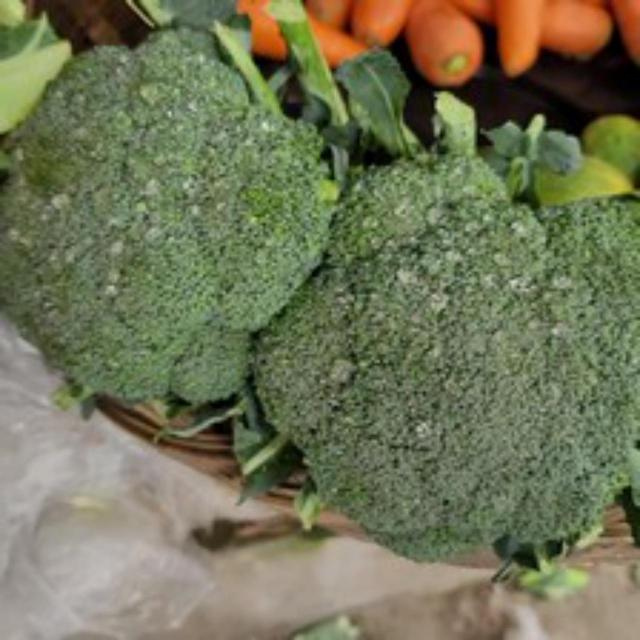broccoli: (248, 126, 637, 556)
